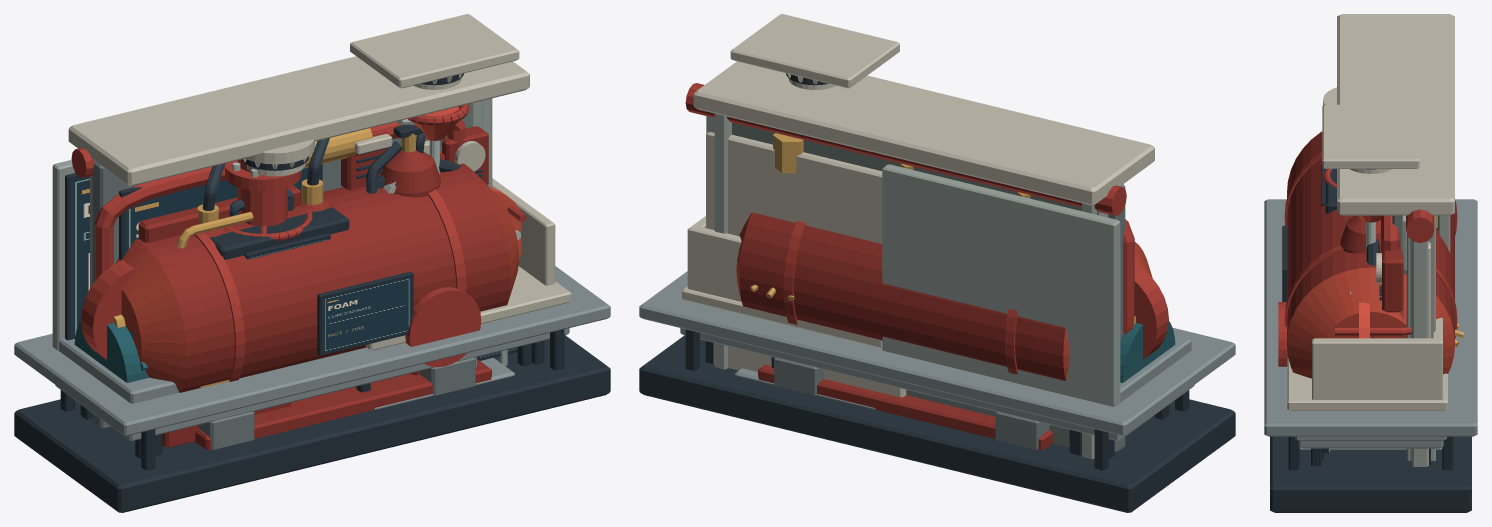
The model's file is exhibits.glb.
The picture shows the model from 3 angles, left to right: view 1: azimuth 30°, elevation 25°; view 2: azimuth 150°, elevation 25°; view 3: azimuth 270°, elevation 25°; orthographic projection. The views are drawn at different scales.
Parts seen in each view (by area): view 1: Exhibit04, Exhibit07, Exhibit01, Exhibit16, Exhibit09, Exhibit13, Exhibit12, Exhibit14, Exhibit03, Exhibit02, Exhibit11, Exhibit15 (+2 smaller); view 2: Exhibit01, Exhibit16, Exhibit07, Exhibit04, Exhibit08, Exhibit09, Exhibit05, Exhibit13, Exhibit02, Exhibit15, Exhibit11, Exhibit12; view 3: Exhibit01, Exhibit16, Exhibit04, Exhibit07, Exhibit09, Exhibit05, Exhibit11, Exhibit15, Exhibit14, Exhibit08, Exhibit13.
Boxes of the visible parts, x1,y1,x2,y2 form: Exhibit04: (95, 120, 518, 449); Exhibit07: (14, 172, 610, 512); Exhibit01: (14, 160, 610, 470); Exhibit16: (68, 56, 529, 185); Exhibit09: (59, 14, 519, 458); Exhibit13: (195, 189, 491, 449); Exhibit12: (92, 135, 447, 428); Exhibit14: (366, 119, 517, 409); Exhibit03: (177, 159, 396, 248); Exhibit02: (138, 103, 470, 242); Exhibit11: (80, 187, 544, 458); Exhibit15: (55, 328, 569, 455); Exhibit01: (639, 164, 1235, 470); Exhibit16: (693, 61, 1154, 458); Exhibit07: (639, 321, 1235, 512); Exhibit04: (736, 212, 1152, 449); Exhibit08: (706, 132, 1135, 397); Exhibit09: (730, 14, 1191, 458); Exhibit05: (685, 83, 1126, 300); Exhibit13: (758, 364, 1052, 449); Exhibit02: (732, 122, 1081, 447); Exhibit15: (680, 328, 1194, 440); Exhibit11: (705, 264, 1169, 458); Exhibit12: (771, 184, 1125, 455); Exhibit01: (1264, 199, 1477, 470); Exhibit16: (1323, 14, 1454, 460); Exhibit04: (1282, 131, 1457, 378); Exhibit07: (1270, 291, 1471, 512); Exhibit09: (1322, 104, 1419, 253); Exhibit05: (1406, 209, 1463, 466); Exhibit11: (1295, 302, 1446, 466); Exhibit15: (1298, 440, 1443, 460); Exhibit14: (1299, 215, 1442, 453); Exhibit08: (1366, 239, 1430, 466); Exhibit13: (1321, 164, 1336, 213).
Size of the model in its own units: 4.96 by 3.32 by 1.95.
Materials: 4 (1 with a texture image).
